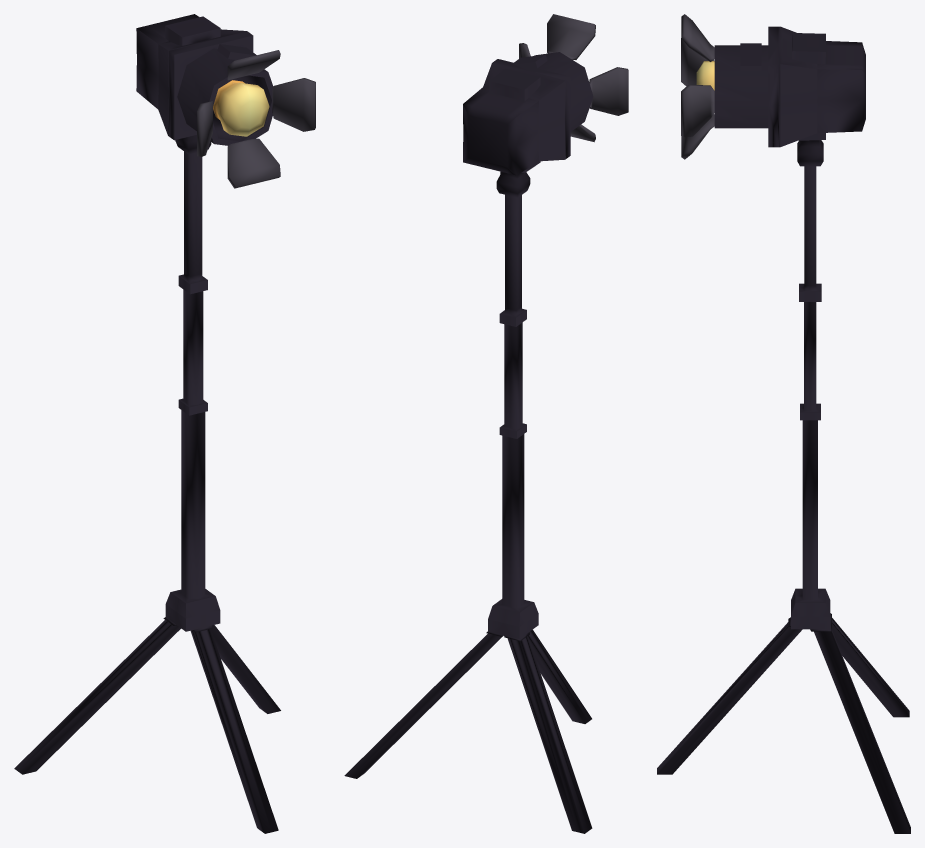
Rendered from Lamp2.fbx.
3 views of the same model, side by side, from view 1: azimuth 30°, elevation 25°; view 2: azimuth 150°, elevation 25°; view 3: azimuth 270°, elevation 25° (orthographic). The views are drawn at different scales.
Parts seen in each view (by area): view 1: Cube.001; view 2: Cube.001; view 3: Cube.001.
Part boxes in pixels (x1,y1,x2,y2): Cube.001: (14, 14, 315, 833); Cube.001: (344, 14, 628, 833); Cube.001: (657, 14, 910, 833).
Bounding box in the file's own units: 1.47 × 4.15 × 1.28.
